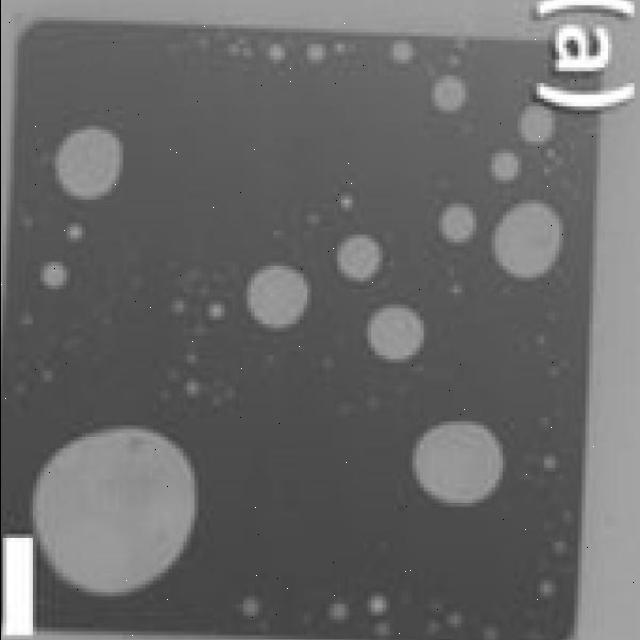Chip: (0, 0, 631, 640)
void: (0, 4, 619, 640), (0, 4, 618, 640), (32, 427, 195, 594), (412, 421, 502, 505), (492, 202, 561, 276), (54, 127, 122, 199), (246, 266, 308, 329), (1, 535, 33, 635), (367, 304, 423, 360), (338, 234, 382, 281), (438, 203, 475, 242), (518, 105, 555, 142), (432, 74, 466, 112), (490, 150, 519, 181), (39, 262, 66, 288), (390, 40, 414, 62), (368, 595, 388, 614), (267, 44, 284, 62), (307, 44, 325, 60), (330, 603, 346, 619), (242, 597, 257, 614), (208, 303, 224, 318), (540, 580, 554, 595), (186, 380, 199, 394), (340, 195, 351, 209), (543, 456, 555, 468)
